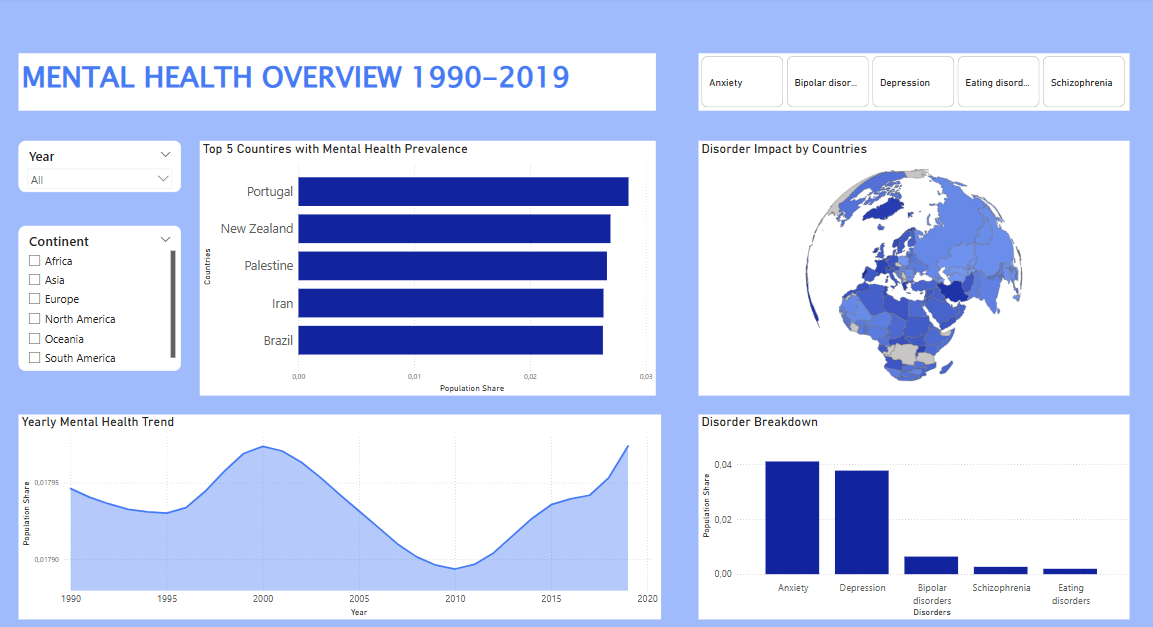

Layout of this report page (visuals, bound fields, positions):
{"tool":"powerbi","page":{"name":"Page 1","canvas":[1980,1080],"ordinal":0},"visuals":[{"type":"textbox","box":[38.2,95.5,1082.6,97.6],"z":0},{"type":"slicer","fields":{"Values":["Sheet1.Year"]},"box":[38.2,244.1,275.9,87],"z":1000},{"type":"slicer","fields":{"Values":["Sheet1.Continent"]},"box":[38.2,388.4,275.9,246.2],"z":2000},{"type":"advancedSlicerVisual","fields":{"Values":["Sheet1.Disorders"]},"box":[1192.9,95.5,732.3,97.6],"z":3000},{"type":"clusteredBarChart","title":"Top 5 Countires with Mental Health Prevalence","fields":{"Category":["Sheet1.Countries"],"Y":["Sheet1.Population Share"]},"box":[346,244.1,774.8,433],"z":4000},{"type":"shapeMap","title":"Disorder Impact by Countries","fields":{"Category":["Sheet1.Countries"],"Value":["Sheet1.Population Share"]},"box":[1192.9,244.1,732.3,433],"z":5000},{"type":"areaChart","title":"Yearly Mental Health Trend","fields":{"Category":["Sheet1.Year"],"Y":["Sheet1.Population Share"]},"box":[38.2,709,1091,348.1],"z":6000},{"type":"clusteredColumnChart","title":" Disorder Breakdown","fields":{"Category":["Sheet1.Disorders"],"Y":["Sheet1.Population Share"]},"box":[1192.9,709,732.3,348.1],"z":7000}]}

Visuals, with their boxes in screenshot pixels (x1, y1, x2, y2), scaled from the page's 1980x1080 canvas onto the 1153x627 screenshot:
textbox: bbox=[22, 55, 653, 112]
slicer - Sheet1.Year: bbox=[22, 142, 183, 192]
slicer - Sheet1.Continent: bbox=[22, 225, 183, 368]
advancedSlicerVisual - Sheet1.Disorders: bbox=[695, 55, 1121, 112]
"Top 5 Countires with Mental Health Prevalence" clusteredBarChart: bbox=[201, 142, 653, 393]
"Disorder Impact by Countries" shapeMap: bbox=[695, 142, 1121, 393]
"Yearly Mental Health Trend" areaChart: bbox=[22, 412, 658, 614]
" Disorder Breakdown" clusteredColumnChart: bbox=[695, 412, 1121, 614]
